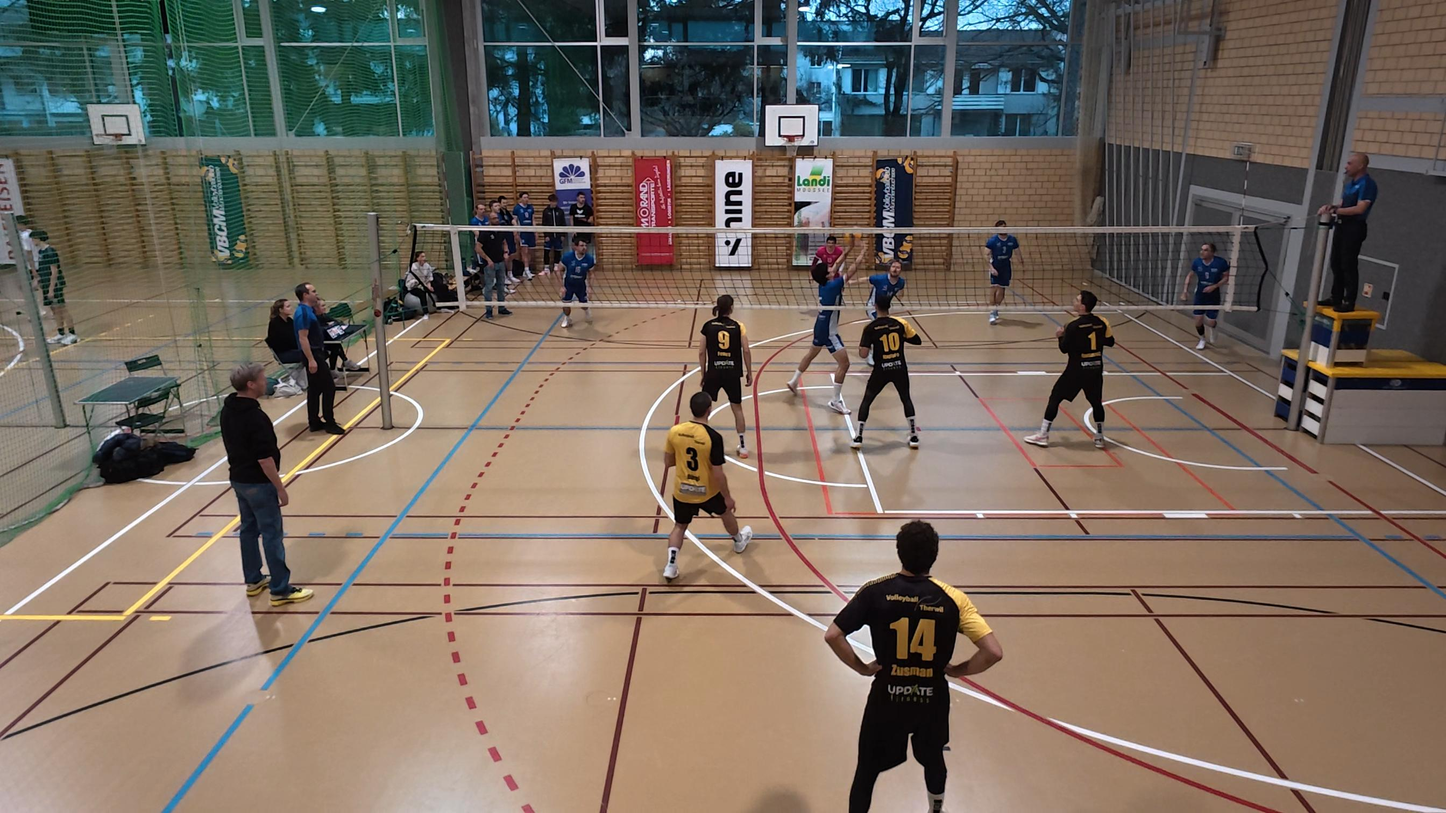Player: (826, 521, 1002, 813), (660, 392, 752, 580), (1024, 289, 1115, 448), (849, 298, 932, 447), (697, 293, 750, 456), (1182, 239, 1231, 350), (983, 218, 1019, 324), (560, 237, 597, 330), (811, 229, 849, 310), (864, 253, 906, 319)
Set: (792, 230, 872, 418)
ball: (842, 224, 860, 250)
